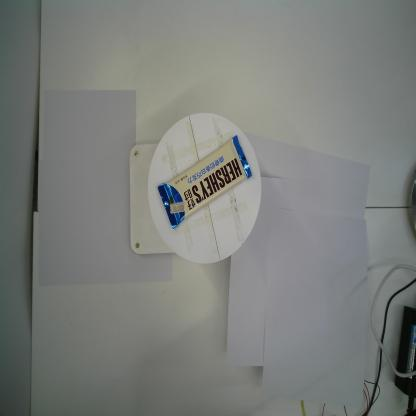Chocolate: (157, 134, 252, 230)
